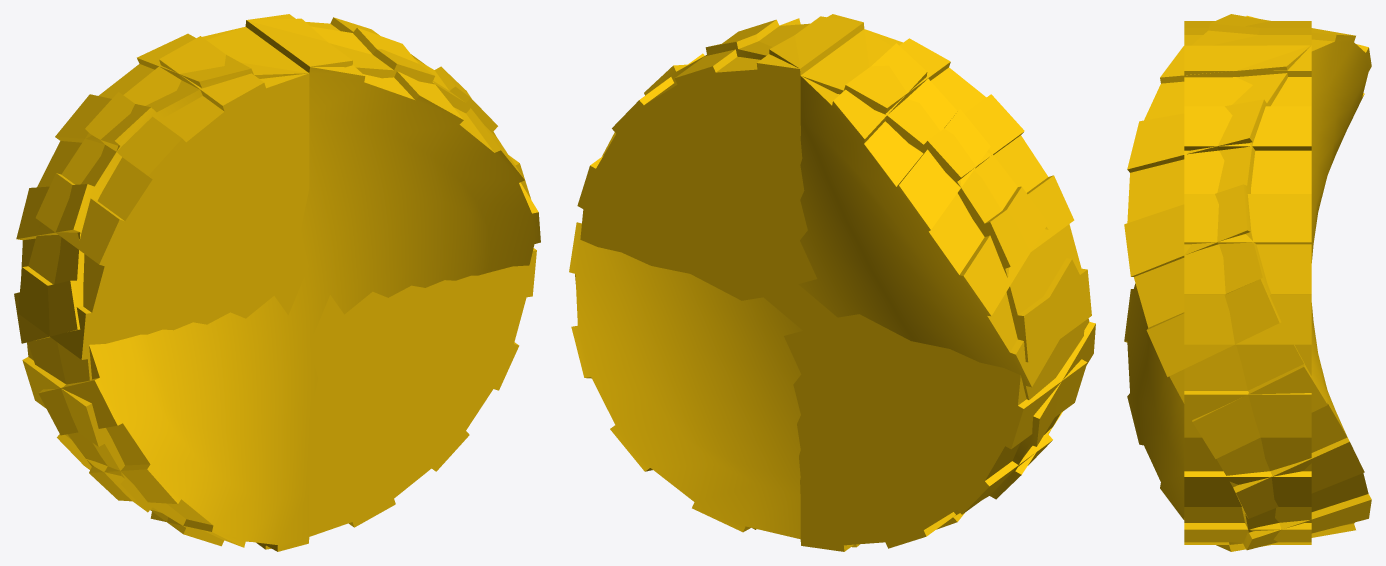
File: Coins.fbx
The picture shows the model from 3 angles, left to right: view 1: azimuth 30°, elevation 25°; view 2: azimuth 150°, elevation 25°; view 3: azimuth 270°, elevation 25°; orthographic projection.
Visible parts, largest first — view 1: Random Coin, Standart Coin, Empty Coin; view 2: Standart Coin, Random Coin, Empty Coin; view 3: Random Coin, Standart Coin.
Part boxes in pixels (x1=…): Random Coin: x1=14, y1=18, x2=540, y2=551; Standart Coin: x1=18, y1=14, x2=536, y2=549; Empty Coin: x1=88, y1=68, x2=528, y2=541; Standart Coin: x1=575, y1=16, x2=1091, y2=551; Random Coin: x1=569, y1=14, x2=1095, y2=547; Empty Coin: x1=581, y1=70, x2=1019, y2=544; Random Coin: x1=1124, y1=14, x2=1371, y2=551; Standart Coin: x1=1184, y1=21, x2=1311, y2=544.
Bounding box in the file's own units: 206 × 206 × 97.01.
